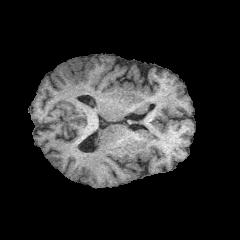glioma: (54, 57, 95, 91)
